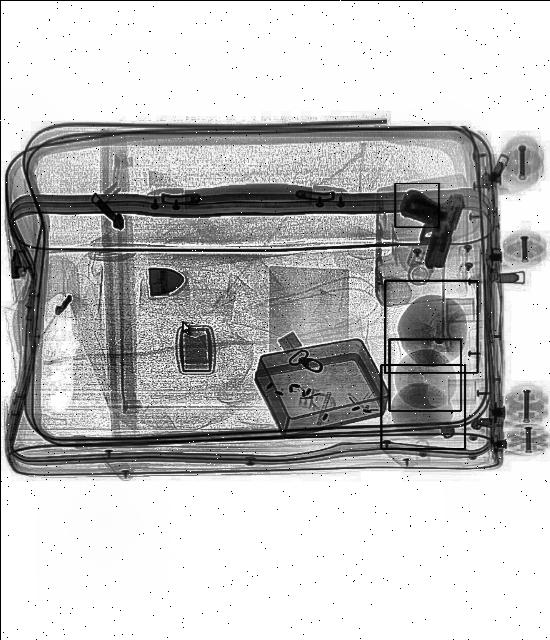Gun: (382, 178, 466, 274)
